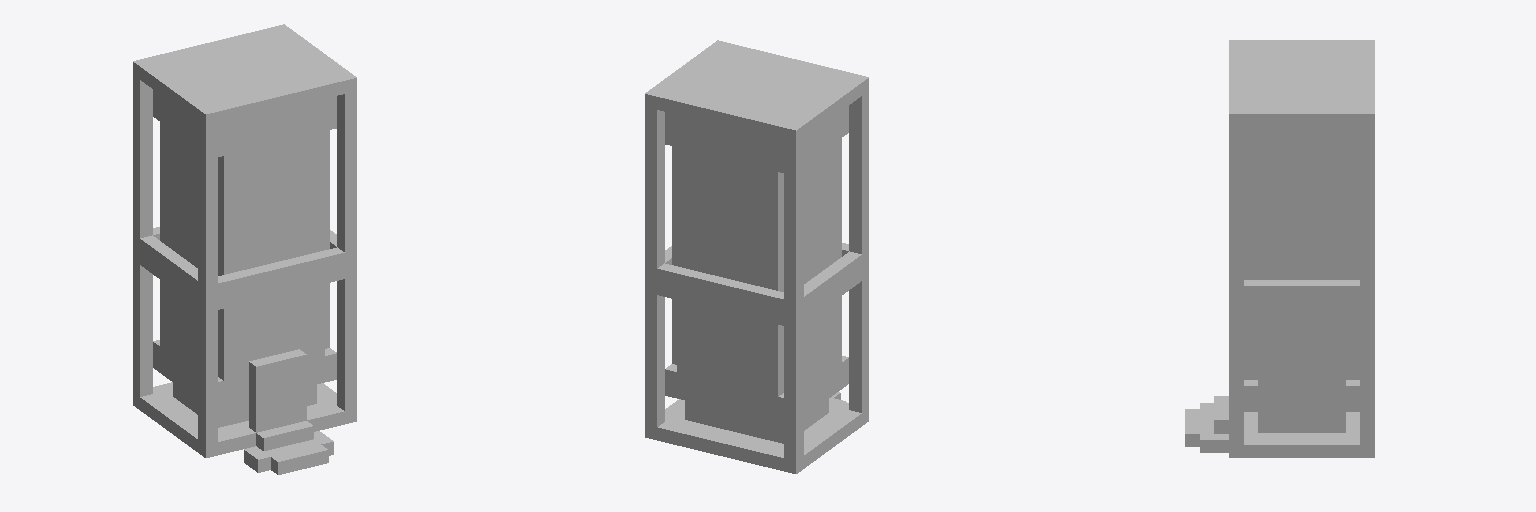
Rendered from experiment cabinet.obj.
3 renders of one model, left to right at view 1: azimuth 30°, elevation 25°; view 2: azimuth 150°, elevation 25°; view 3: azimuth 270°, elevation 25°, orthographic.
Visible parts, largest first — view 1: object 1; view 2: object 1; view 3: object 1.
Part boxes in pixels (x1,y1,x2,y2): object 1: (133, 24, 356, 474); object 1: (645, 40, 868, 473); object 1: (1185, 40, 1374, 457).
Size of the model in its own units: 1.2 by 2.7 by 1.3.